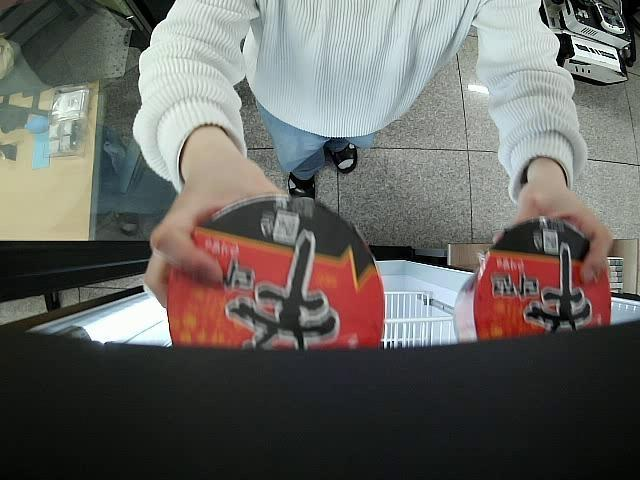01_ShinRamen_L: (165, 194, 386, 350), (453, 217, 612, 342)
